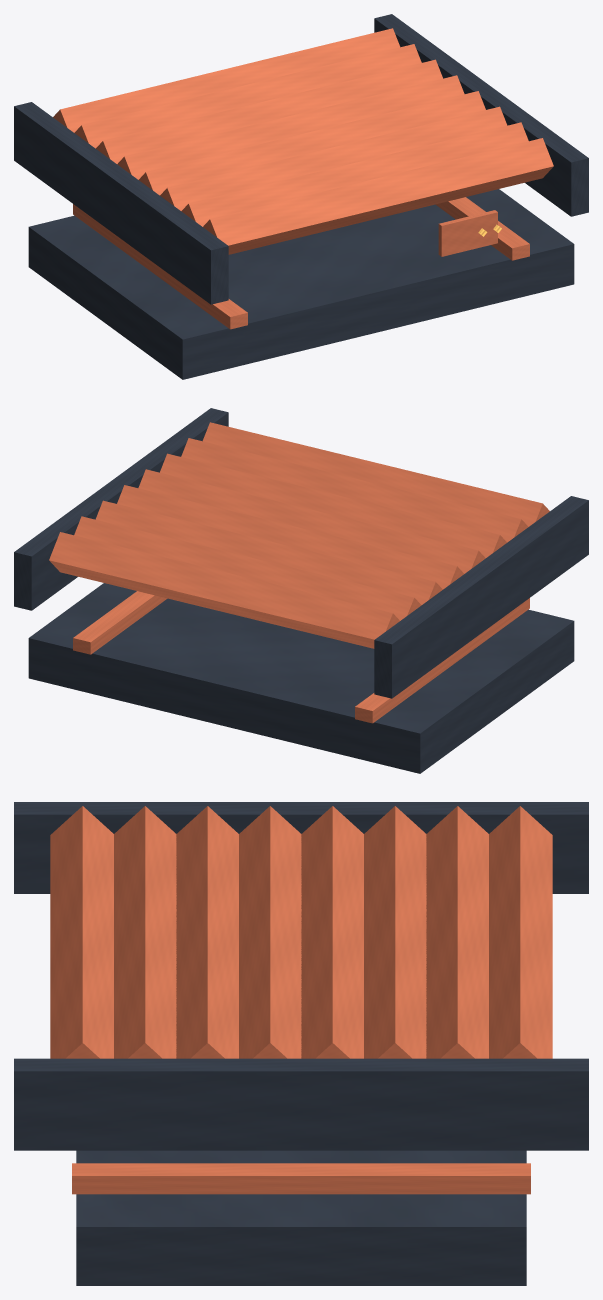
The model's file is atlas100-s021-a02.lod1.glb.
3 views of the same model, one above another, from view 1: azimuth 30°, elevation 25°; view 2: azimuth 150°, elevation 25°; view 3: azimuth 270°, elevation 25° (orthographic). The views are drawn at different scales.
Parts seen in each view (by area): view 1: atlas100-s021-a02:part-000, atlas100-s021-a02:part-011, atlas100-s021-a02:part-010, atlas100-s021-a02:part-003, atlas100-s021-a02:part-004, atlas100-s021-a02:part-005, atlas100-s021-a02:part-006, atlas100-s021-a02:part-007, atlas100-s021-a02:part-008, atlas100-s021-a02:part-009, atlas100-s021-a02:part-012, atlas100-s021-a02:part-001 (+2 smaller); view 2: atlas100-s021-a02:part-000, atlas100-s021-a02:part-011, atlas100-s021-a02:part-003, atlas100-s021-a02:part-010, atlas100-s021-a02:part-009, atlas100-s021-a02:part-007, atlas100-s021-a02:part-008, atlas100-s021-a02:part-006, atlas100-s021-a02:part-004, atlas100-s021-a02:part-005, atlas100-s021-a02:part-012, atlas100-s021-a02:part-001 (+1 smaller); view 3: atlas100-s021-a02:part-012, atlas100-s021-a02:part-000, atlas100-s021-a02:part-011, atlas100-s021-a02:part-003, atlas100-s021-a02:part-010, atlas100-s021-a02:part-004, atlas100-s021-a02:part-005, atlas100-s021-a02:part-006, atlas100-s021-a02:part-007, atlas100-s021-a02:part-008, atlas100-s021-a02:part-009, atlas100-s021-a02:part-002.
Boxes of the visible parts, x1=… form: atlas100-s021-a02:part-000: x1=28, y1=189, x2=574, y2=379; atlas100-s021-a02:part-011: x1=14, y1=102, x2=228, y2=304; atlas100-s021-a02:part-010: x1=203, y1=138, x2=553, y2=254; atlas100-s021-a02:part-003: x1=53, y1=28, x2=400, y2=132; atlas100-s021-a02:part-004: x1=74, y1=44, x2=421, y2=148; atlas100-s021-a02:part-005: x1=96, y1=59, x2=442, y2=163; atlas100-s021-a02:part-006: x1=117, y1=75, x2=464, y2=179; atlas100-s021-a02:part-007: x1=139, y1=91, x2=485, y2=195; atlas100-s021-a02:part-008: x1=160, y1=106, x2=507, y2=210; atlas100-s021-a02:part-009: x1=181, y1=122, x2=528, y2=226; atlas100-s021-a02:part-012: x1=374, y1=14, x2=588, y2=216; atlas100-s021-a02:part-001: x1=73, y1=204, x2=247, y2=329; atlas100-s021-a02:part-000: x1=28, y1=583, x2=574, y2=773; atlas100-s021-a02:part-011: x1=374, y1=496, x2=588, y2=698; atlas100-s021-a02:part-003: x1=49, y1=532, x2=399, y2=648; atlas100-s021-a02:part-010: x1=202, y1=422, x2=549, y2=526; atlas100-s021-a02:part-009: x1=181, y1=438, x2=528, y2=542; atlas100-s021-a02:part-007: x1=138, y1=469, x2=485, y2=573; atlas100-s021-a02:part-008: x1=160, y1=453, x2=506, y2=557; atlas100-s021-a02:part-006: x1=117, y1=485, x2=463, y2=589; atlas100-s021-a02:part-004: x1=74, y1=516, x2=421, y2=620; atlas100-s021-a02:part-005: x1=95, y1=500, x2=442, y2=604; atlas100-s021-a02:part-012: x1=14, y1=408, x2=228, y2=610; atlas100-s021-a02:part-001: x1=355, y1=598, x2=529, y2=723; atlas100-s021-a02:part-012: x1=14, y1=1058, x2=588, y2=1150; atlas100-s021-a02:part-000: x1=76, y1=1150, x2=526, y2=1285; atlas100-s021-a02:part-011: x1=14, y1=802, x2=588, y2=893; atlas100-s021-a02:part-003: x1=489, y1=806, x2=552, y2=1058; atlas100-s021-a02:part-010: x1=50, y1=806, x2=113, y2=1058; atlas100-s021-a02:part-004: x1=426, y1=806, x2=488, y2=1058; atlas100-s021-a02:part-005: x1=364, y1=806, x2=426, y2=1058; atlas100-s021-a02:part-006: x1=301, y1=806, x2=363, y2=1058; atlas100-s021-a02:part-007: x1=239, y1=806, x2=301, y2=1058; atlas100-s021-a02:part-008: x1=176, y1=806, x2=238, y2=1058; atlas100-s021-a02:part-009: x1=114, y1=806, x2=176, y2=1058; atlas100-s021-a02:part-002: x1=72, y1=1163, x2=530, y2=1194.
Size of the model in its own units: 2.64 by 0.98 by 2.3.
Materials: 3 (3 with a texture image).
